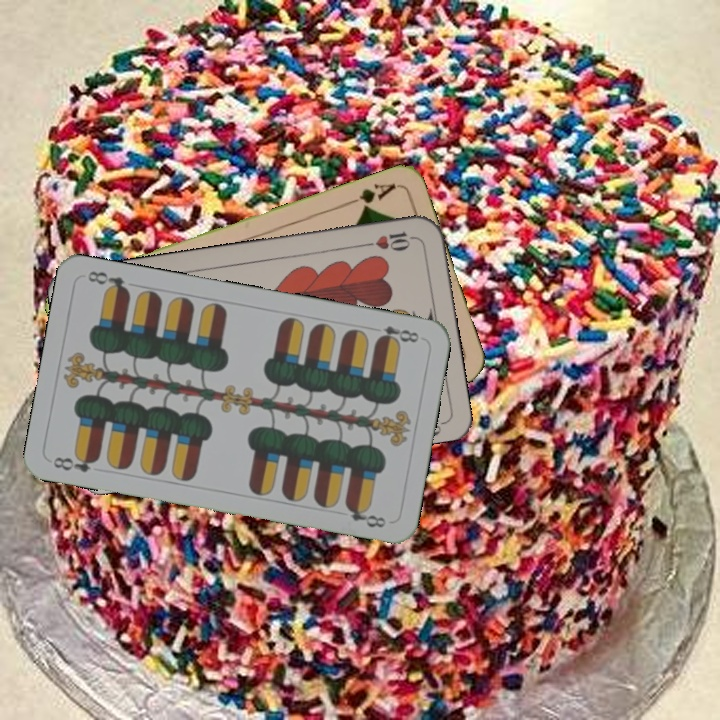E8: (49, 450, 101, 475), (373, 322, 422, 347)
GA: (342, 179, 399, 214)
H10: (359, 228, 418, 253)
